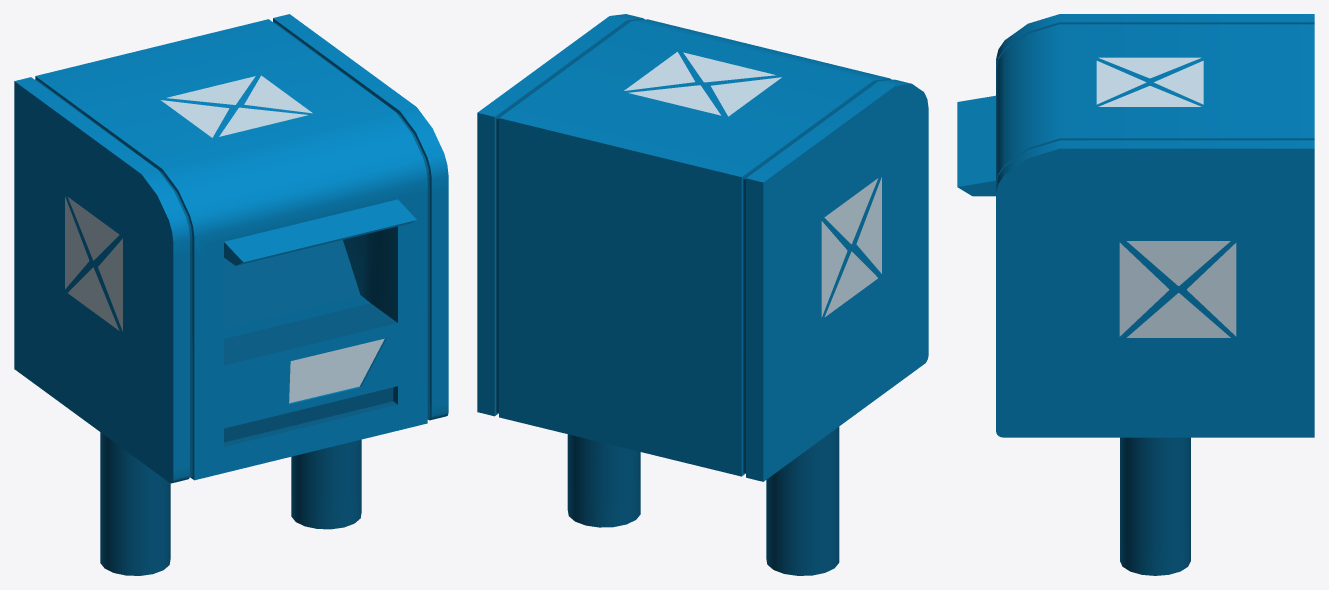
The model's file is CaixaCtt.glb.
3 renders of one model, left to right at view 1: azimuth 30°, elevation 25°; view 2: azimuth 150°, elevation 25°; view 3: azimuth 270°, elevation 25°, orthographic. The views are drawn at different scales.
Parts seen in each view (by area): view 1: CaixaCtt; view 2: CaixaCtt; view 3: CaixaCtt.
Part boxes in pixels (x1,y1,x2,y2): CaixaCtt: [14, 14, 448, 575]; CaixaCtt: [477, 14, 928, 575]; CaixaCtt: [957, 14, 1314, 575].
Size of the model in its own units: 2.03 by 3 by 2.24.
1 material, 1 textured.
